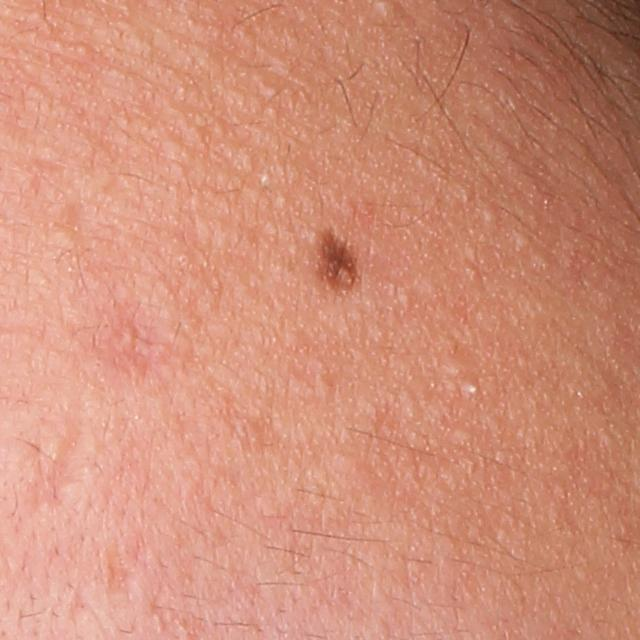atrophic_scar: (3, 383, 104, 529), (101, 549, 133, 600)
comedo: (44, 220, 76, 251), (477, 203, 501, 225), (514, 229, 535, 252), (463, 380, 482, 398)
nevus: (311, 227, 364, 300)
